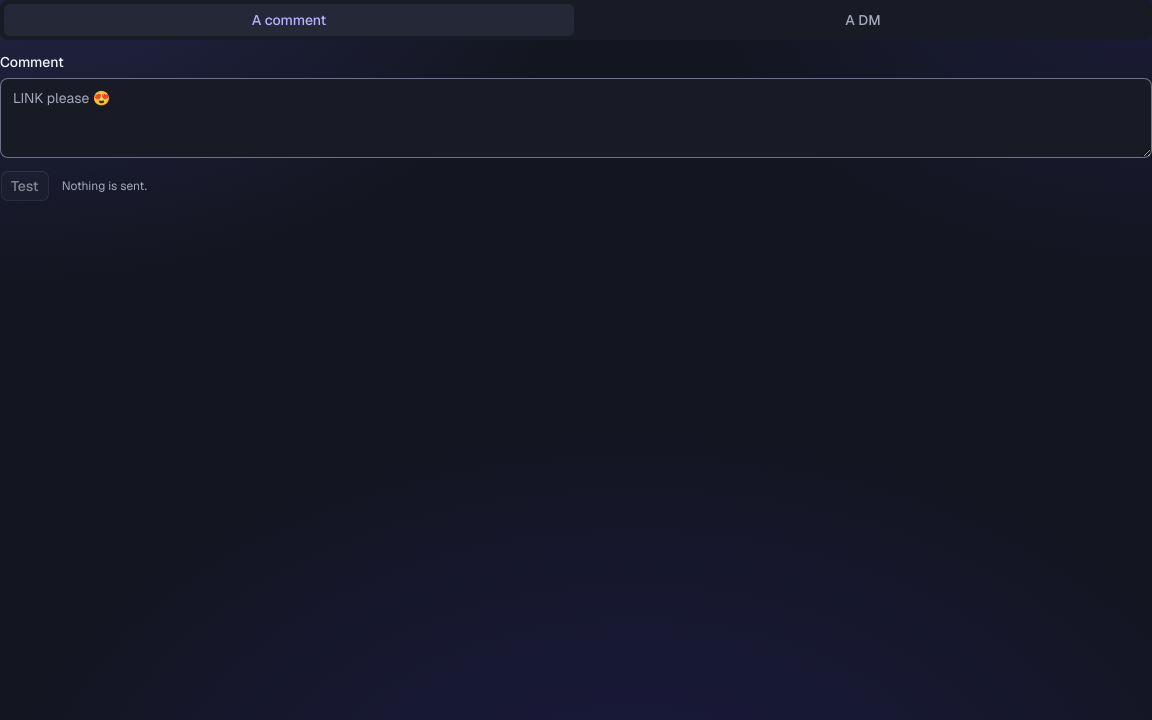
Test: MatchTester (UX-SCR-03 Test) › tap first and the nudge: the opening with its button before the DM, the nudge after it
The width and height of the screenshot is (1152, 720).
Type "LINK" into the text box labelled "Comment" at {"x": 576, "y": 118}, box x1=0 y1=78 x2=1151 y2=158
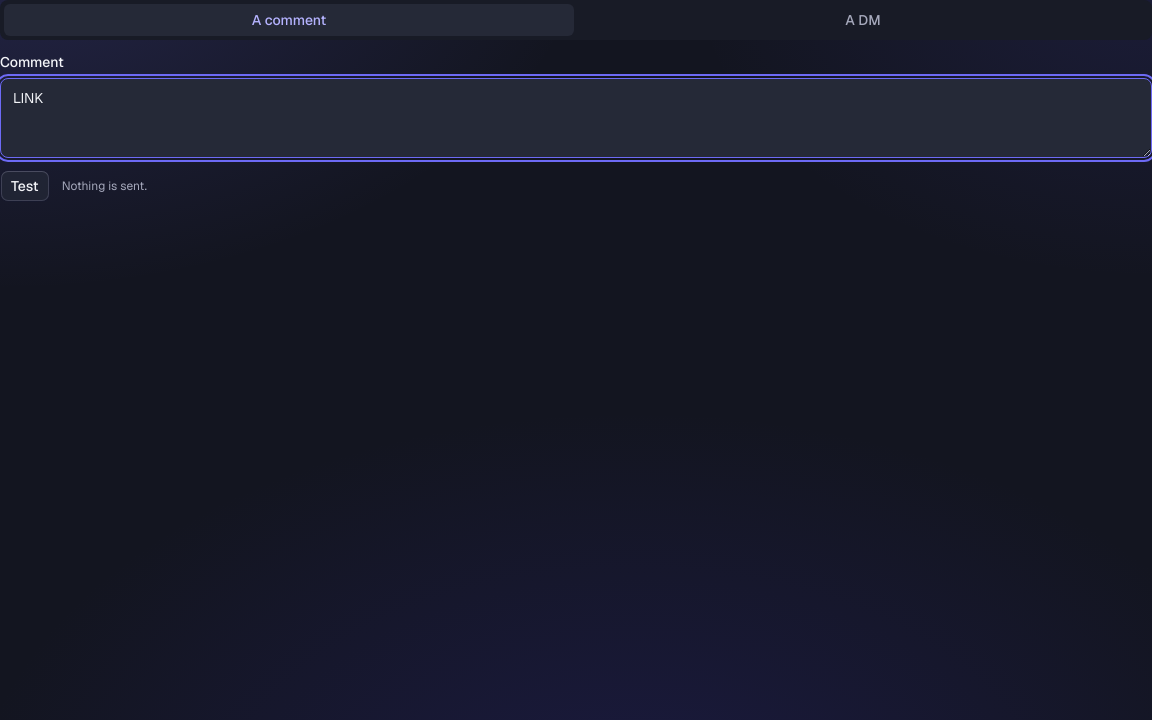
Click the button "Test" at {"x": 25, "y": 186}, box x1=0 y1=170 x2=50 y2=202
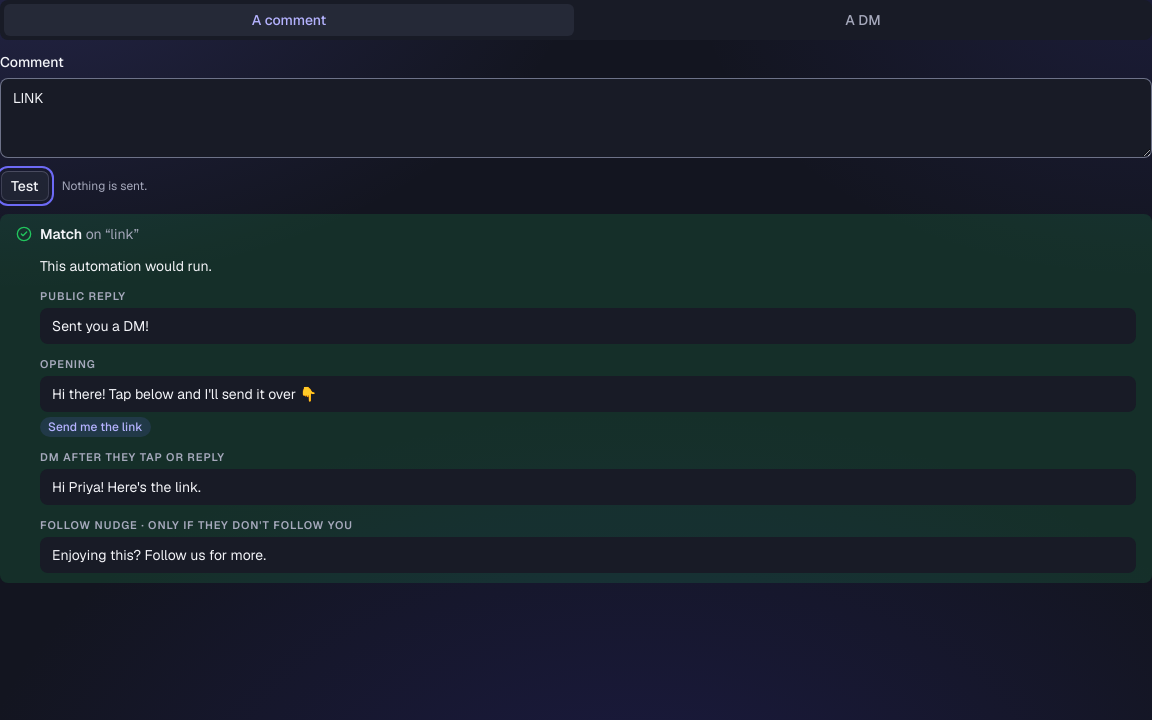
expect the element with test id "test-opening" shows "Opening": met, box x1=40 y1=357 x2=96 y2=371
expect the element with test id "test-opening" shows "Hi there! Tap below and I'll send it over 👇": met, box x1=52 y1=385 x2=317 y2=403
expect the text "Send me the link" is shown: met, box x1=40 y1=417 x2=150 y2=437
